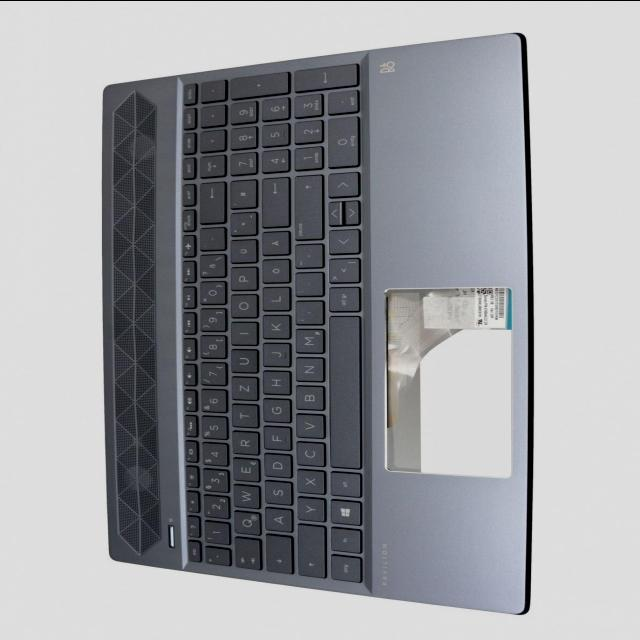0: (197, 282, 225, 306)
1: (201, 522, 229, 546)
2: (201, 495, 227, 520)
3: (199, 470, 227, 494)
4: (199, 443, 227, 467)
5: (199, 417, 227, 441)
6: (198, 390, 226, 414)
7: (198, 363, 226, 387)
8: (197, 336, 225, 360)
9: (197, 309, 225, 333)
a: (262, 508, 291, 533)
accent: (197, 228, 225, 252)
ae: (259, 231, 289, 257)
alt-left: (328, 473, 361, 499)
altgr-right: (326, 287, 359, 313)
b: (292, 386, 323, 412)
c: (293, 442, 323, 468)
caret: (203, 548, 229, 567)
comma: (292, 302, 322, 327)
d: (261, 454, 291, 479)
del: (196, 183, 224, 225)
e: (230, 459, 258, 483)
enter: (258, 178, 288, 230)
f: (260, 427, 289, 451)
g: (260, 399, 290, 424)
h: (259, 371, 289, 396)
hash: (228, 180, 256, 210)
i: (228, 323, 256, 347)
j: (259, 344, 289, 368)
k: (259, 315, 289, 341)
keyboard: (168, 54, 370, 592)
l: (259, 288, 289, 312)
less: (327, 258, 360, 286)
m: (292, 329, 323, 355)
minus: (292, 245, 322, 271)
n: (292, 357, 323, 383)
o: (228, 295, 257, 320)
oe: (259, 260, 289, 285)
p: (228, 268, 256, 292)
plus: (227, 213, 255, 237)
point: (293, 273, 323, 299)
q: (231, 512, 259, 537)
r: (229, 432, 257, 456)
s: (261, 481, 291, 506)
shift-left: (293, 525, 324, 579)
shift-lock: (263, 535, 291, 575)
shift-right: (290, 176, 321, 242)
space: (327, 317, 360, 471)
ss: (197, 255, 224, 279)
strg-left: (329, 555, 361, 583)
t: (228, 405, 257, 429)
tab: (231, 538, 259, 571)
u: (228, 350, 257, 374)
ue: (227, 240, 256, 264)
v: (293, 414, 324, 440)
w: (230, 486, 258, 510)
x: (294, 470, 324, 496)
y: (294, 497, 323, 523)
z: (228, 377, 256, 402)
